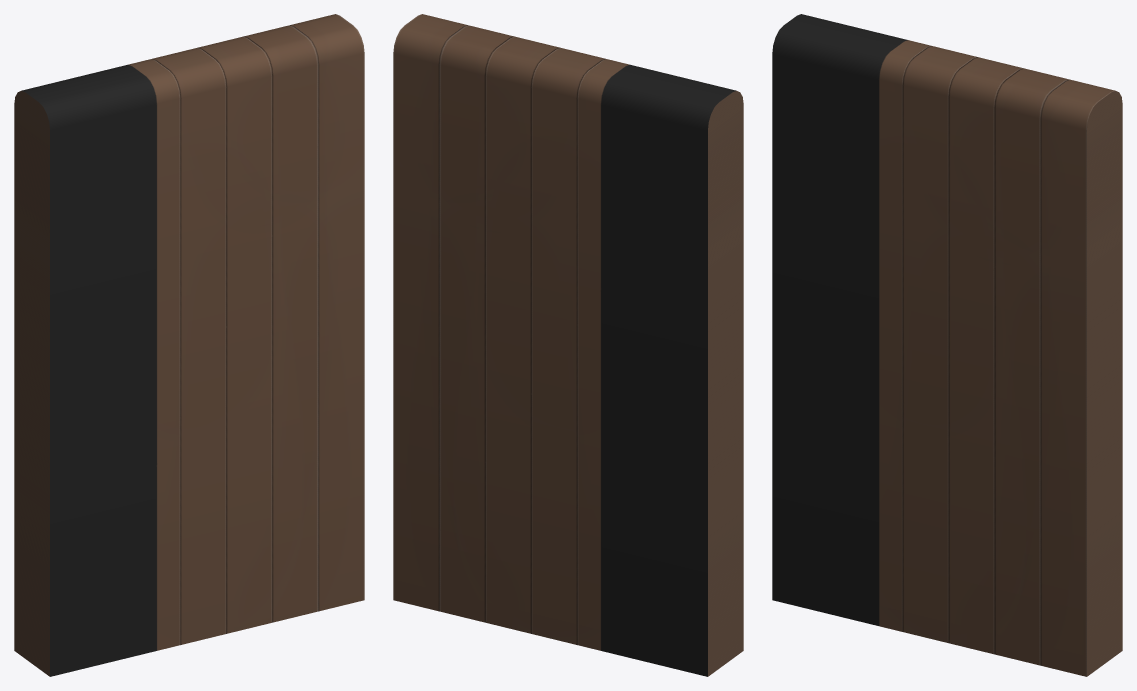
The model's file is Wall02_GEO.fbx.
3 views of the same model, side by side, from view 1: azimuth 30°, elevation 25°; view 2: azimuth 150°, elevation 25°; view 3: azimuth 330°, elevation 25° (orthographic).
Visible parts, largest first — view 1: Wall02_GEO; view 2: Wall02_GEO; view 3: Wall02_GEO.
Boxes of the visible parts, x1,y1,x2,y2 form: Wall02_GEO: [14, 14, 364, 676]; Wall02_GEO: [393, 14, 743, 676]; Wall02_GEO: [772, 14, 1122, 676].
Bounding box in the file's own units: 284 × 488 × 55.76.
1 material, 1 textured.
